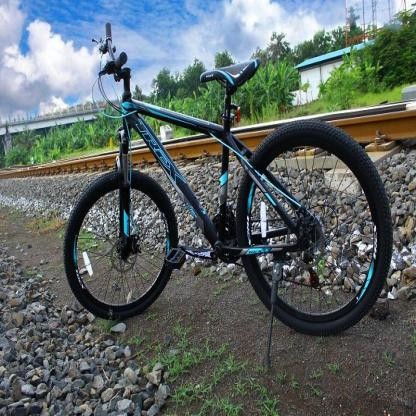Bike: (60, 13, 393, 336)
